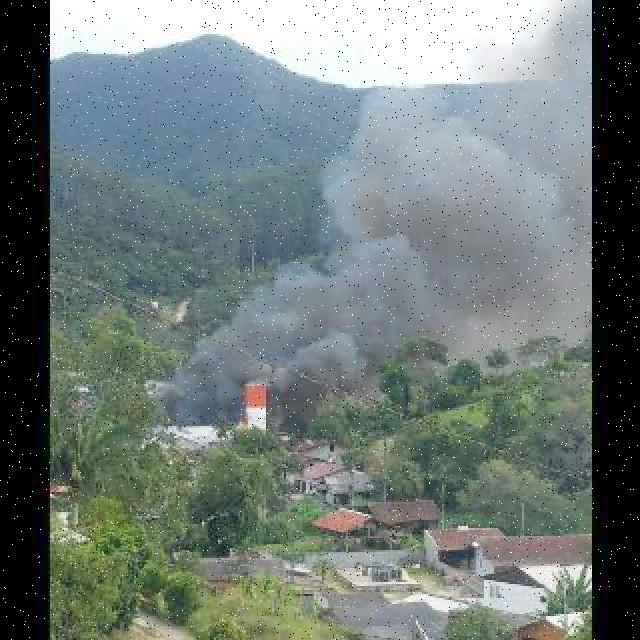smoke: (180, 81, 587, 398)
